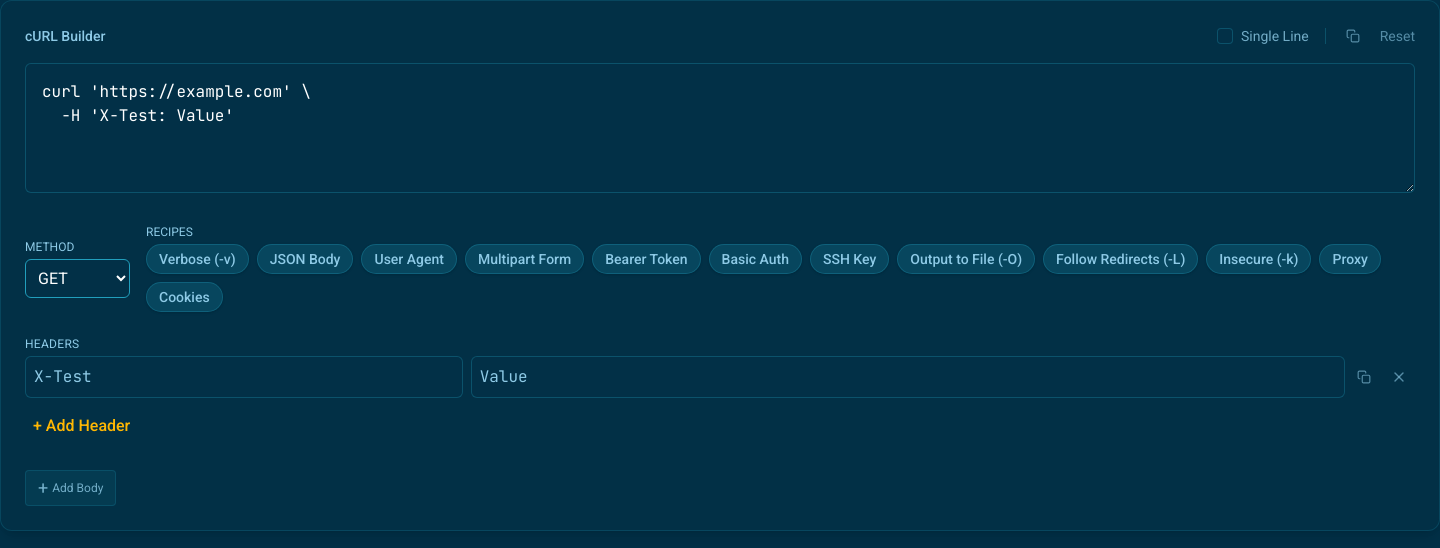
Test case: CurlBuilder › Single Line Mode › should generate single line output when enabled
// Enable single line
Click the checkbox labelled "Single Line".
click(1263, 36)  # box x1=1217 y1=26 x2=1309 y2=46
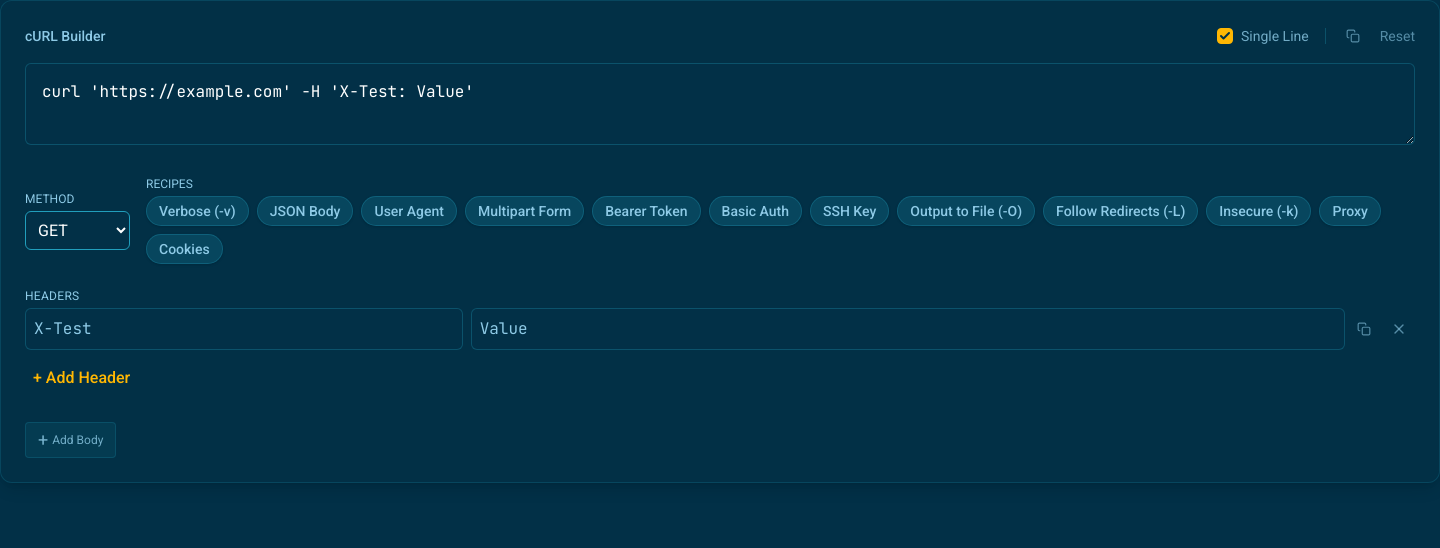
Now the text box with placeholder "curl 'https://example.com'" holds "curl 'https://example.com' -H 'X-Test: Value'", box x1=25 y1=63 x2=1415 y2=145
